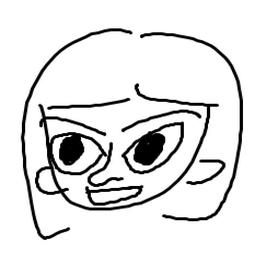ear: (185, 157, 230, 188), (35, 163, 54, 198)
eye: (120, 122, 185, 176), (50, 131, 105, 175)
frowning_eyebrow: (116, 110, 204, 135), (44, 112, 106, 135)
nose: (84, 139, 122, 186)
open_mouth: (85, 186, 143, 206)
